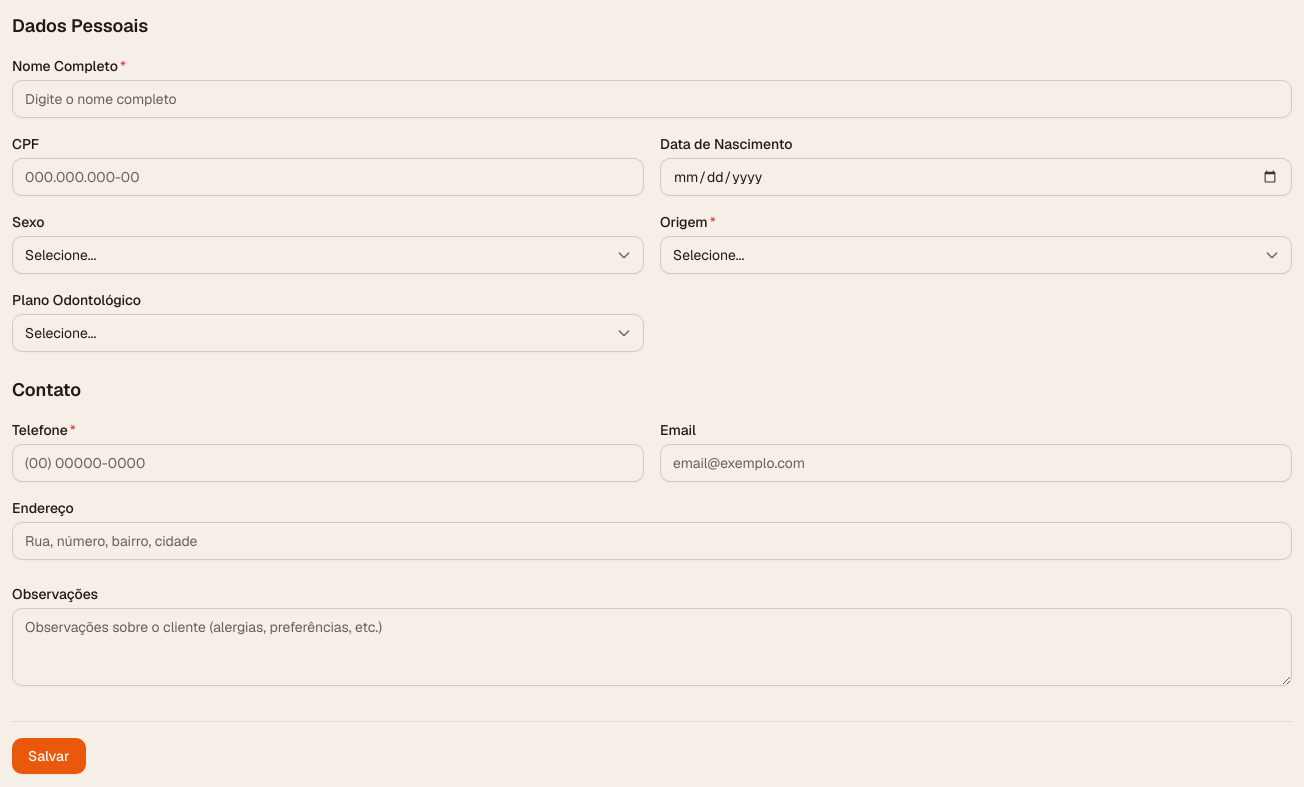
it: ClienteForm › mostra erro quando nome vazio ao submeter
Select a valid origin to pass that validation
Select "Indicação" in the dropdown labelled "Origem*": (976,255) x1=660 y1=236 x2=1292 y2=274
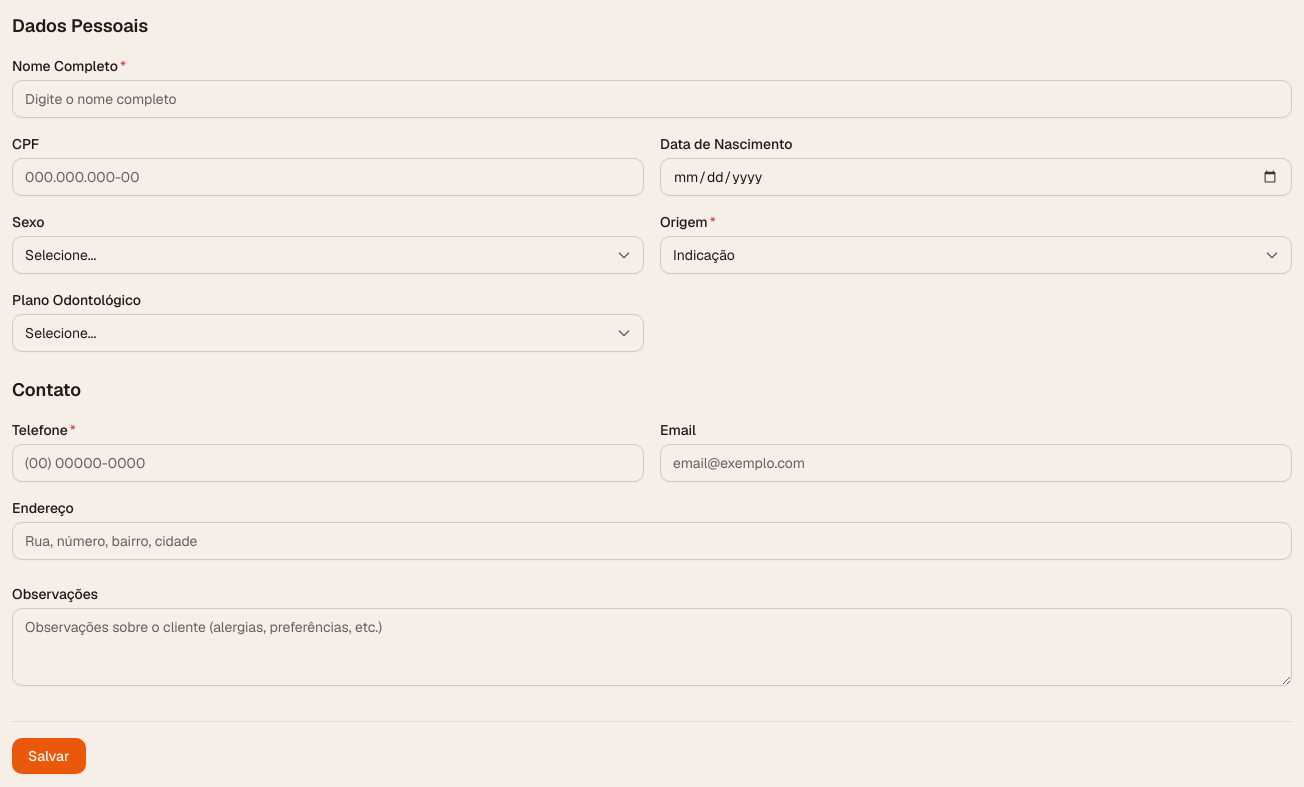
Submit without nome
Submit the form named "Salvar"
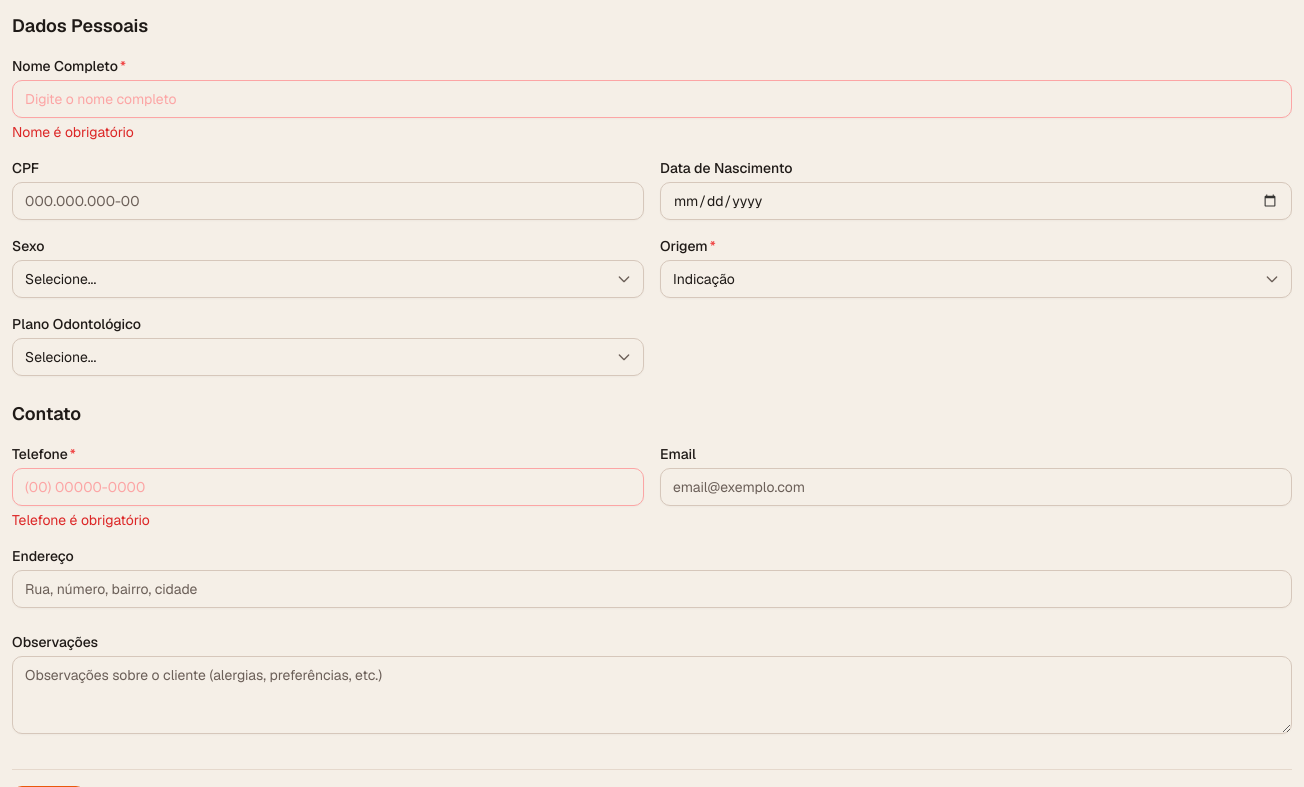
Expected: the text "Nome é obrigatório" is shown, x1=12 y1=123 x2=134 y2=141
